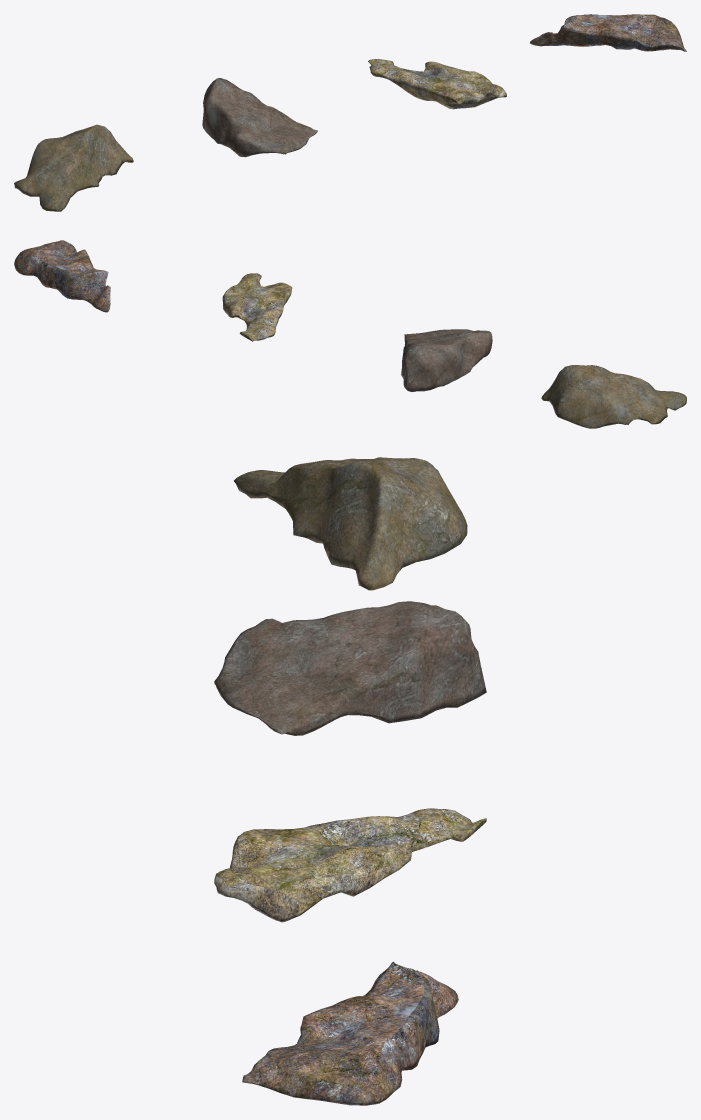
File: rocks.glb
3 renders of one model, top to bottom at view 1: azimuth 30°, elevation 25°; view 2: azimuth 150°, elevation 25°; view 3: azimuth 270°, elevation 25°, orthographic. The views are drawn at different scales.
Parts seen in each view (by area): view 1: rock0, rock1, rock3, rock2; view 2: rock0, rock1, rock3, rock2; view 3: rock1, rock0, rock3, rock2.
Boxes of the visible parts, x1=… form: rock0: x1=14, y1=124, x2=133, y2=211; rock1: x1=202, y1=78, x2=317, y2=157; rock3: x1=530, y1=14, x2=686, y2=51; rock2: x1=368, y1=59, x2=506, y2=109; rock0: x1=541, y1=365, x2=686, y2=428; rock1: x1=401, y1=329, x2=492, y2=391; rock3: x1=14, y1=240, x2=110, y2=312; rock2: x1=222, y1=273, x2=292, y2=341; rock1: x1=214, y1=601, x2=486, y2=735; rock0: x1=234, y1=457, x2=467, y2=590; rock3: x1=242, y1=961, x2=458, y2=1105; rock2: x1=214, y1=808, x2=486, y2=922.
Bounding box in the file's own units: 11 × 0.7059 × 2.
4 materials, 4 textured.
